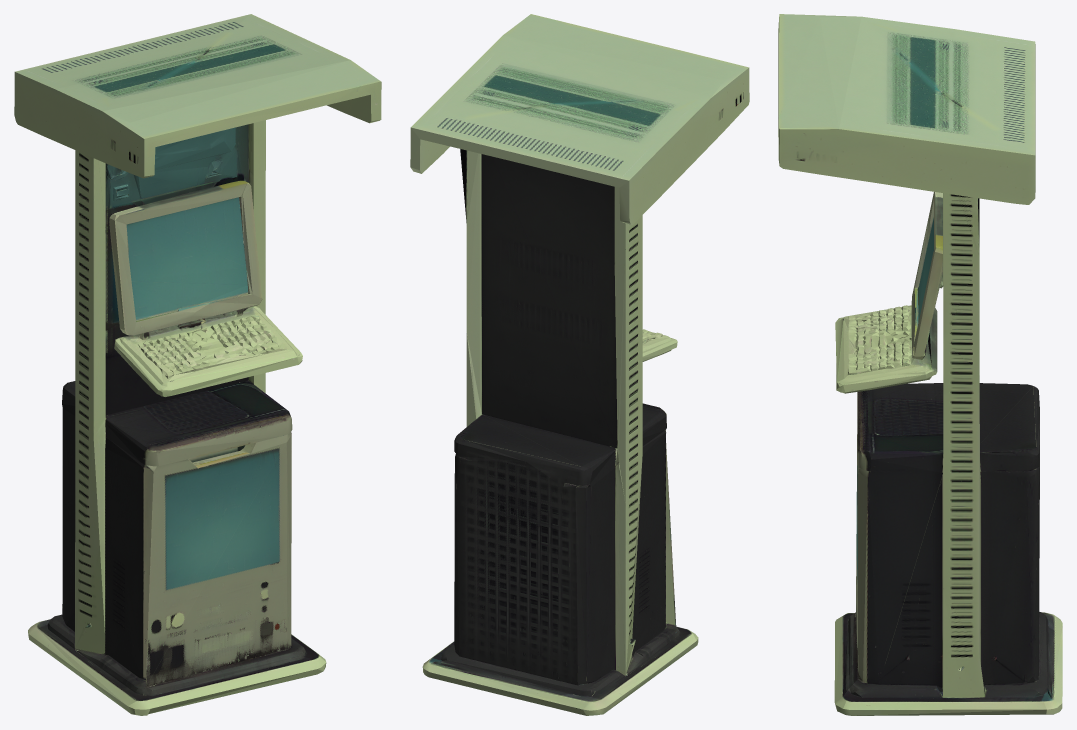
Rendered from refine.glb.
3 renders of one model, left to right at view 1: azimuth 30°, elevation 25°; view 2: azimuth 150°, elevation 25°; view 3: azimuth 270°, elevation 25°, orthographic. The views are drawn at different scales.
Bounding box in the file's own units: 0.7791 × 1.9 × 0.8172.
1 material, 1 textured.
